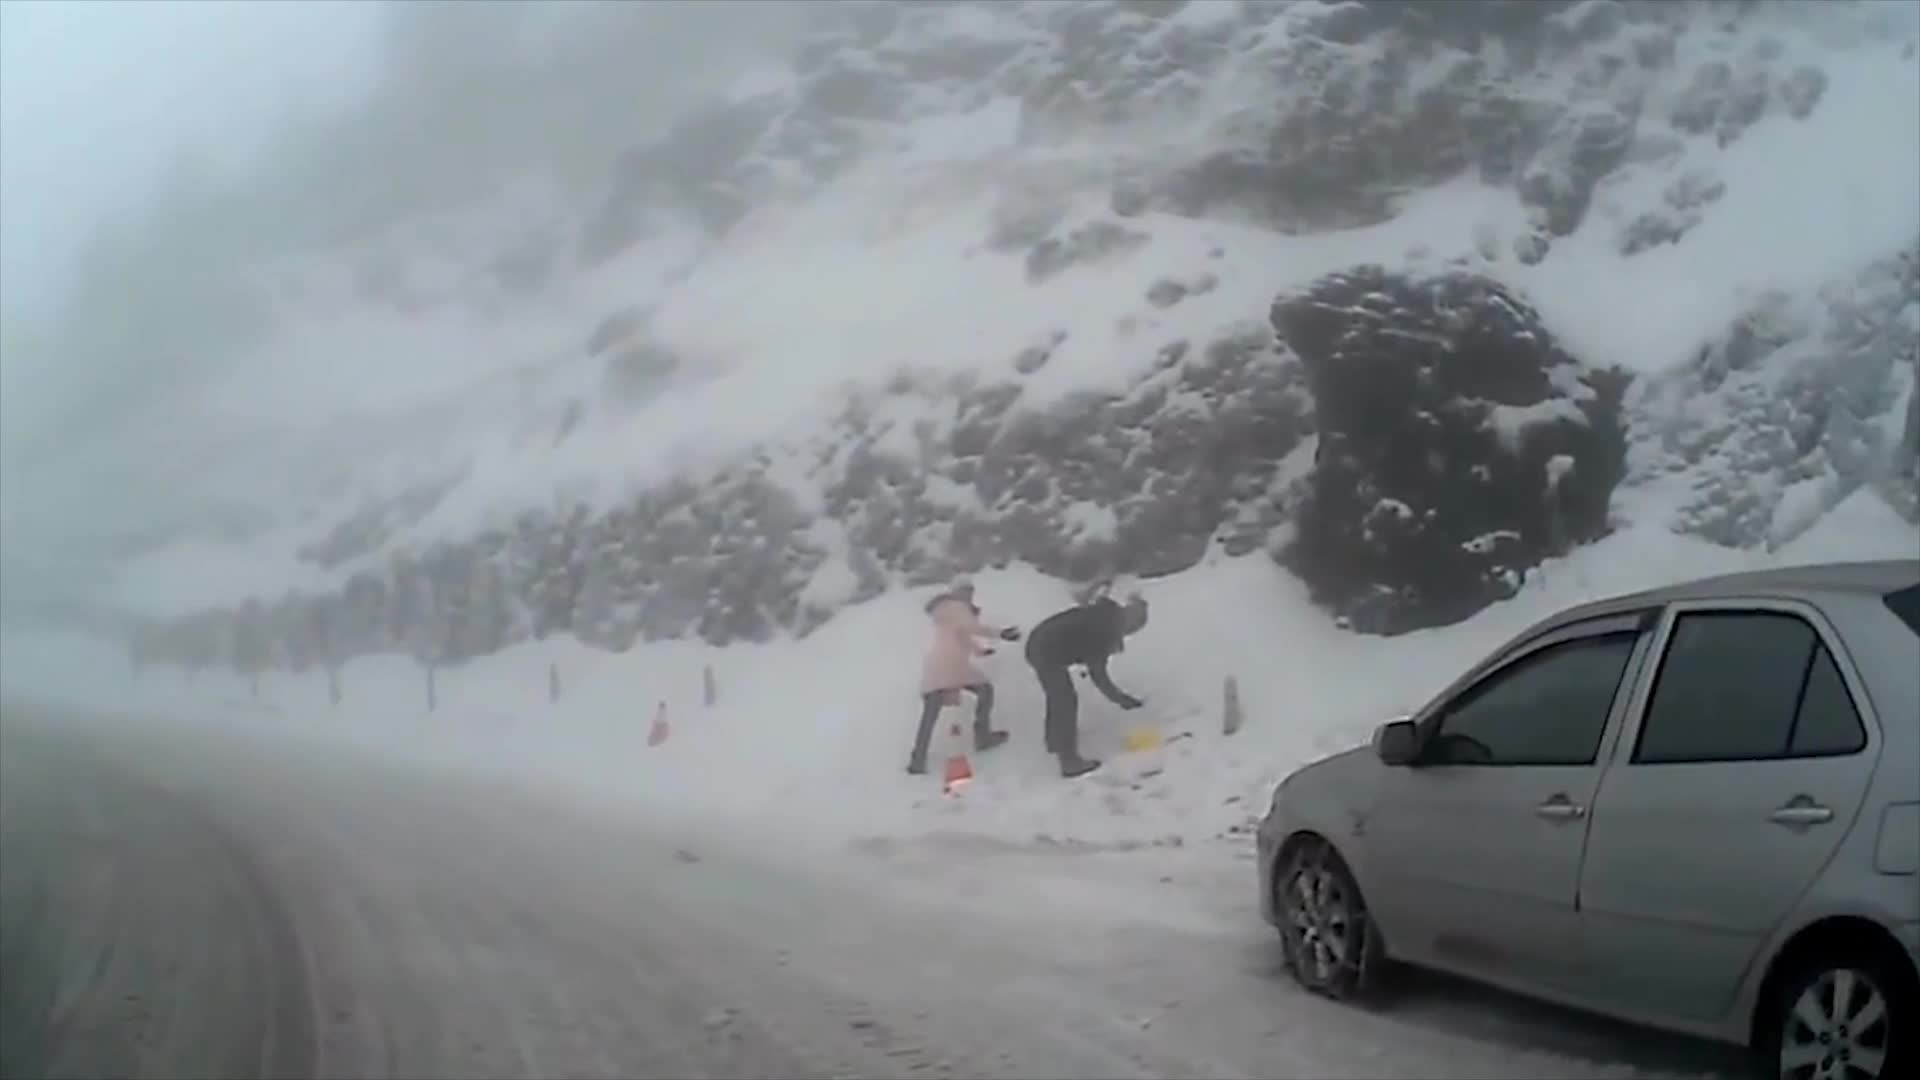pedestrian: (901, 575, 1025, 776), (1022, 596, 1146, 780)
vehicle: (1256, 557, 1920, 1080)
